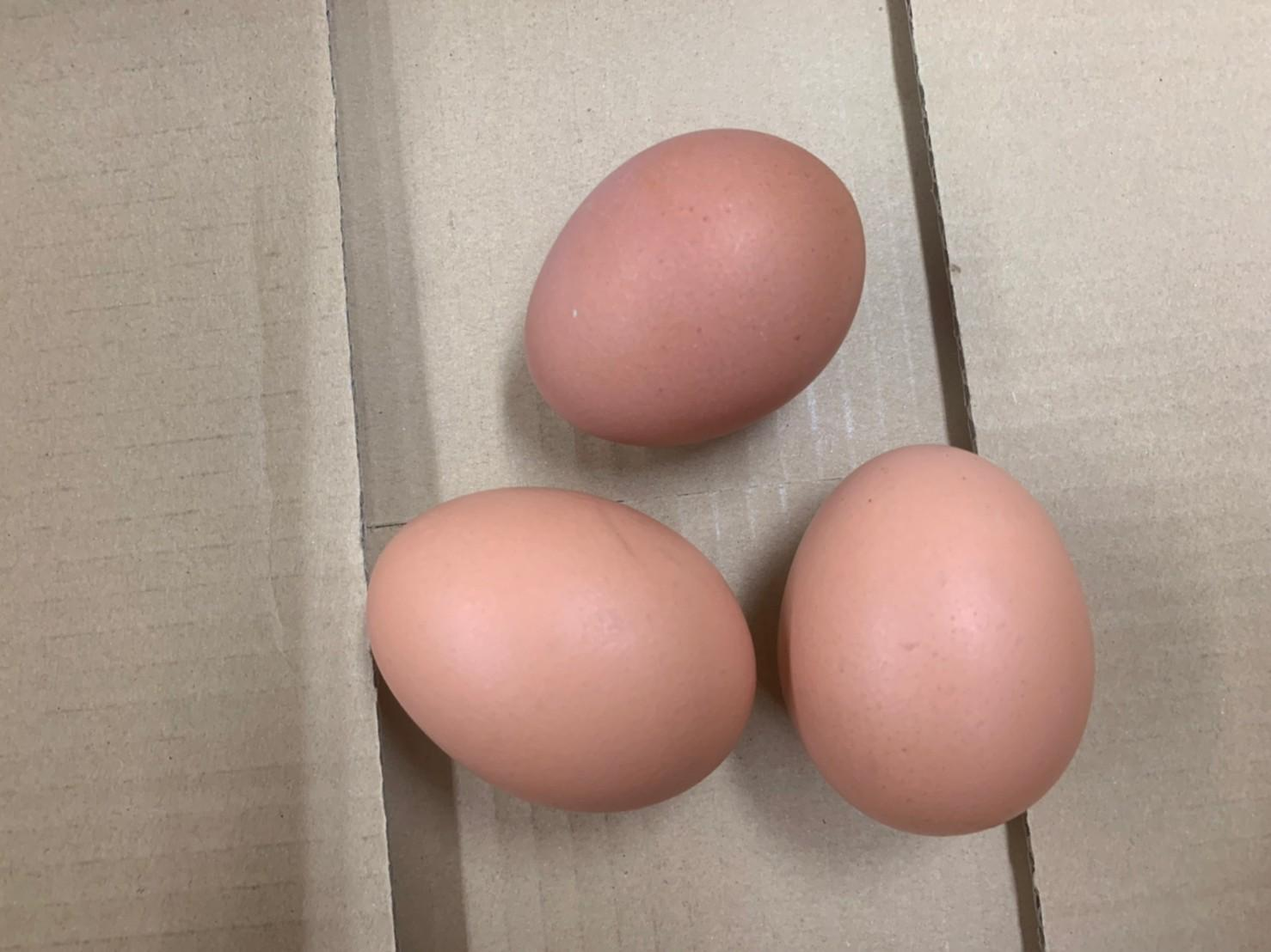egg: (359, 484, 764, 818), (770, 439, 1102, 845), (519, 124, 871, 452)
